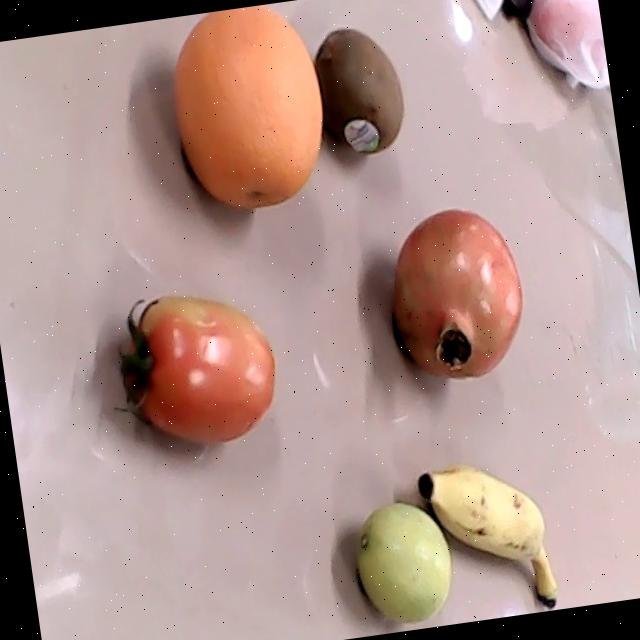kiwi: (312, 30, 403, 154)
lemon: (358, 503, 452, 620)
orange: (174, 5, 323, 208)
pomegranate: (395, 209, 524, 379)
tomato: (114, 295, 276, 445)
